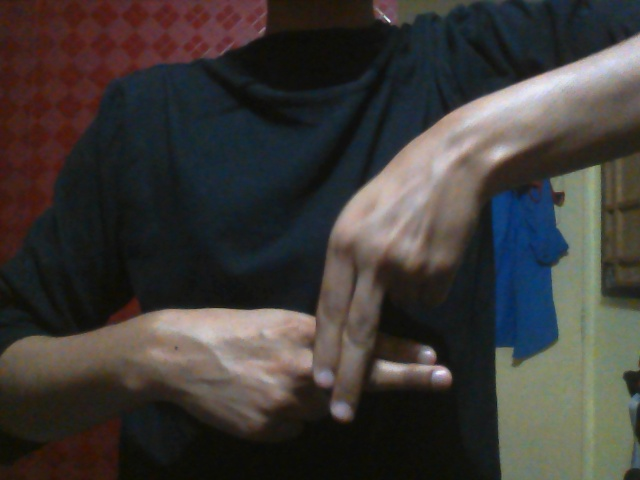F: (173, 153, 481, 446)
